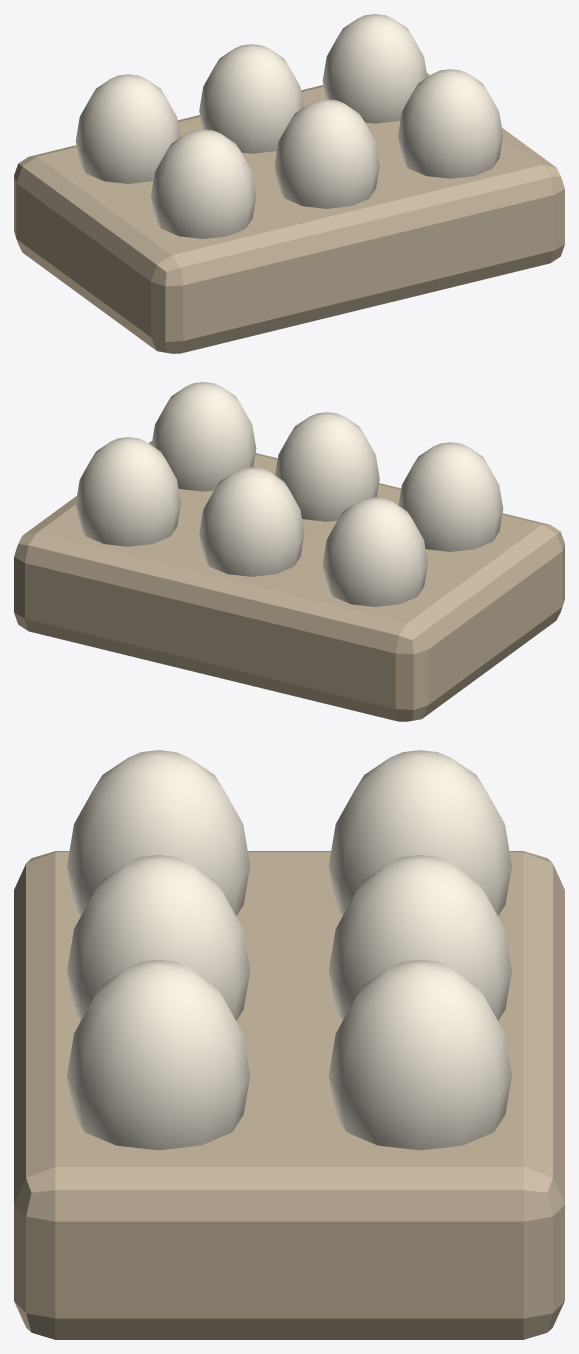
The model's file is egg-carton.glb.
3 renders of one model, top to bottom at view 1: azimuth 30°, elevation 25°; view 2: azimuth 150°, elevation 25°; view 3: azimuth 270°, elevation 25°, orthographic. The views are drawn at different scales.
Parts seen in each view (by area): view 1: Tray, Sphere.002, Sphere.004, Sphere, Sphere.001, Sphere.003, Sphere.005; view 2: Tray, Sphere.003, Sphere.005, Sphere.001, Sphere, Sphere.002, Sphere.004; view 3: Tray, Sphere.004, Sphere.005, Sphere, Sphere.001, Sphere.002, Sphere.003.
Part boxes in pixels (x1,y1,x2,y2): Tray: (14,73,564,353); Sphere.002: (274,99,379,208); Sphere.004: (398,69,503,178); Sphere: (151,129,256,238); Sphere.001: (75,74,180,183); Sphere.003: (199,44,303,153); Sphere.005: (322,14,427,123); Tray: (14,441,564,721); Sphere.003: (199,467,304,576); Sphere.005: (75,437,180,546); Sphere.001: (322,497,427,606); Sphere: (398,442,503,551); Sphere.002: (275,412,379,521); Sphere.004: (151,382,256,491); Tray: (14,851,564,1339); Sphere.004: (67,959,250,1150); Sphere.005: (328,959,511,1150); Sphere: (67,750,250,916); Sphere.001: (328,750,511,916); Sphere.002: (67,855,250,1020); Sphere.003: (328,855,511,1020).
Bounding box in the file's own units: 0.24 × 0.1025 × 0.16.
